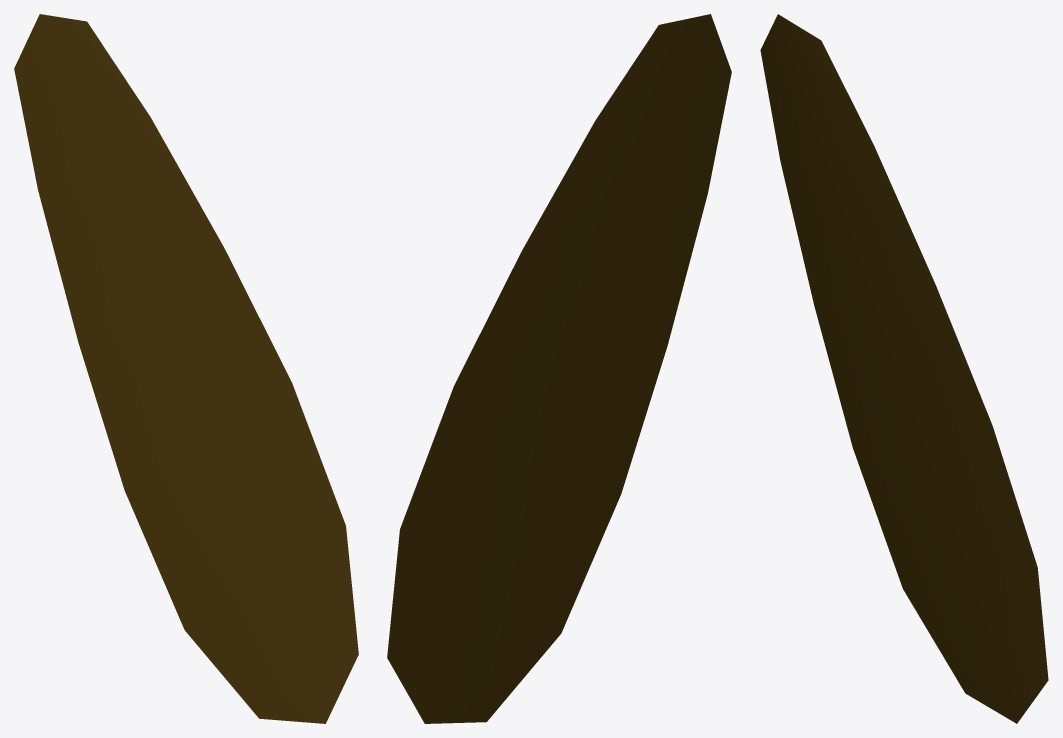
Rendered from canary_feather_flight_primary_010.obj.
3 views of the same model, side by side, from view 1: azimuth 30°, elevation 25°; view 2: azimuth 150°, elevation 25°; view 3: azimuth 330°, elevation 25° (orthographic). The views are drawn at different scales.
Parts seen in each view (by area): view 1: feather_flight_primary_010; view 2: feather_flight_primary_010; view 3: feather_flight_primary_010.
Boxes of the visible parts, bbox=[...] form: feather_flight_primary_010: bbox=[14, 14, 358, 723]; feather_flight_primary_010: bbox=[387, 14, 731, 723]; feather_flight_primary_010: bbox=[760, 14, 1048, 723].
Size of the model in its own units: 0.0133 by 0.0288 by 0.000155.
